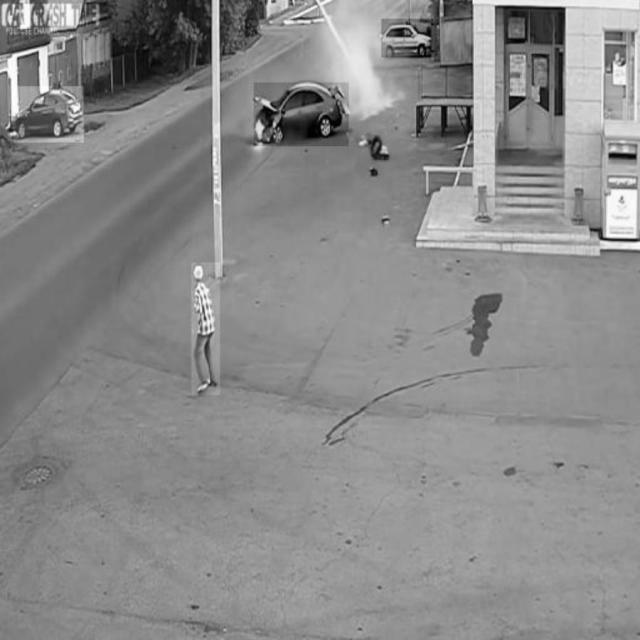accident: (254, 83, 348, 147)
person: (191, 263, 219, 395)
vehicle: (14, 87, 84, 143), (382, 19, 434, 57)
